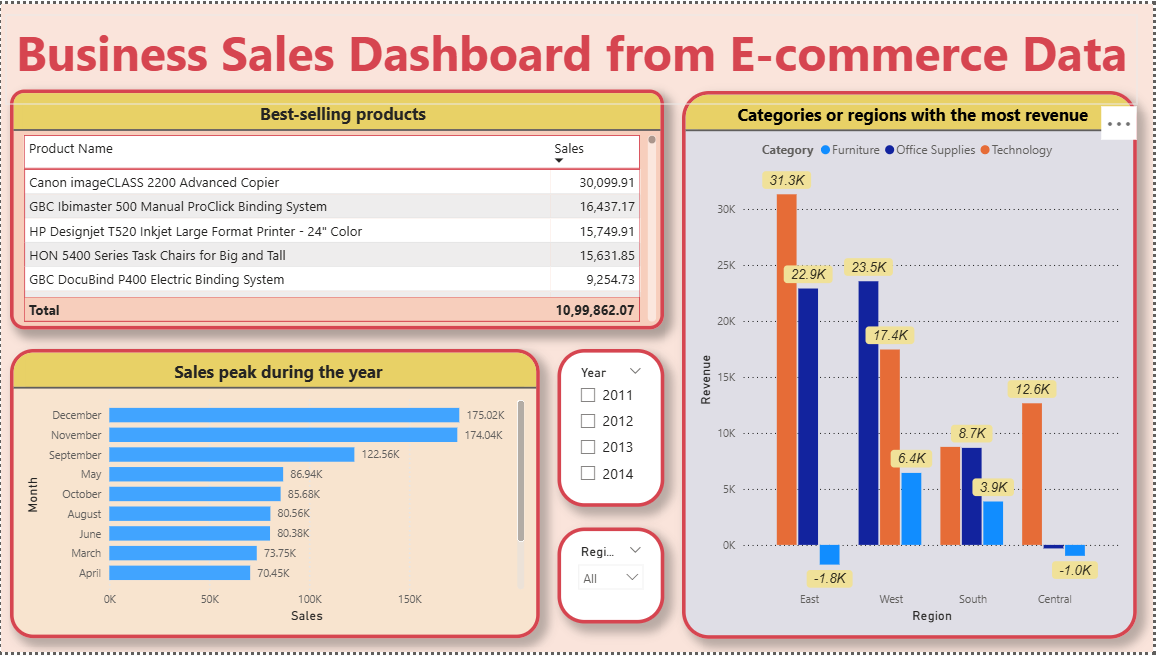

What the dashboard file says about the page in this screenshot:
{"tool":"powerbi","page":{"name":"Page 1","canvas":[1280,720],"ordinal":0},"visuals":[{"type":"clusteredBarChart","title":" Sales peak during the year","fields":{"Category":["Orders.Month Name"],"Y":["Sum(Orders.Sales)"]},"box":[10,383.3,588.3,321],"z":0},{"type":"slicer","title":"Year","fields":{"Values":["Orders.Year"]},"box":[618.3,383.3,118.3,175],"z":1000},{"type":"clusteredColumnChart","title":"Categories or regions with the most revenue","fields":{"Category":["People.Region"],"Y":["Sum(Orders.Profit)"],"Series":["Orders.Category"]},"box":[756.7,96.7,505,608.3],"z":2000},{"type":"tableEx","title":"Best-selling products","fields":{"Values":["Orders.Product Name","Sum(Orders.Sales)"]},"box":[10,95,726.7,266.7],"z":3000},{"type":"textbox","box":[4.5,12.1,1258.3,99.9],"z":4000},{"type":"slicer","title":"Year","fields":{"Values":["People.Region"]},"box":[618.3,581.7,118.3,106.7],"z":5000}]}

Visuals, with their boxes in screenshot pixels (x1, y1, x2, y2), scaled from the page's 1280x720 canvas onto the 1156x656 screenshot:
" Sales peak during the year" clusteredBarChart: (left=9, top=349, right=540, bottom=642)
"Year" slicer: (left=558, top=349, right=665, bottom=509)
"Categories or regions with the most revenue" clusteredColumnChart: (left=683, top=88, right=1139, bottom=642)
"Best-selling products" tableEx: (left=9, top=87, right=665, bottom=330)
textbox: (left=4, top=11, right=1140, bottom=102)
"Year" slicer: (left=558, top=530, right=665, bottom=627)
